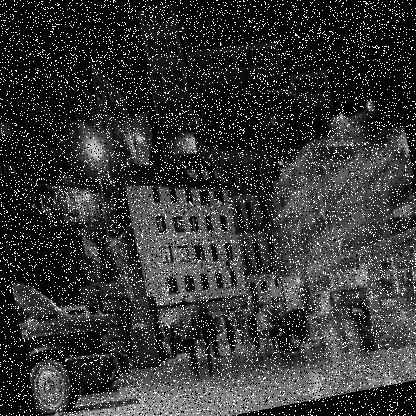Car: (263, 249, 415, 373), (11, 266, 121, 416), (54, 295, 94, 322)
